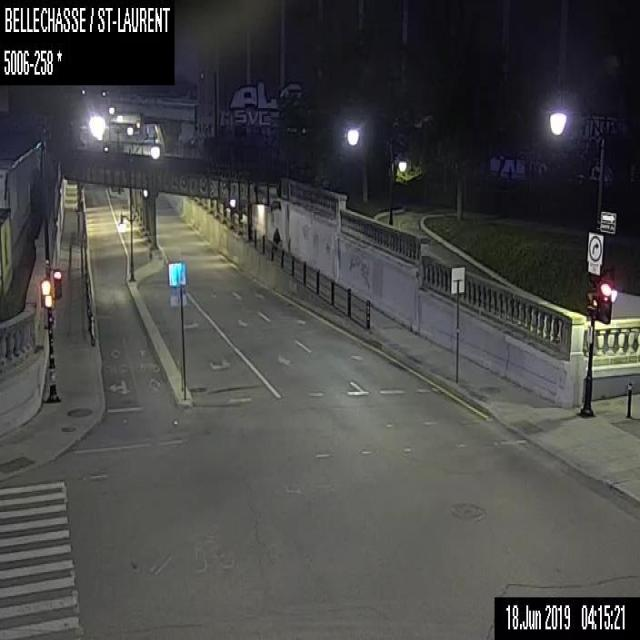pedestrian: (273, 226, 280, 244)
